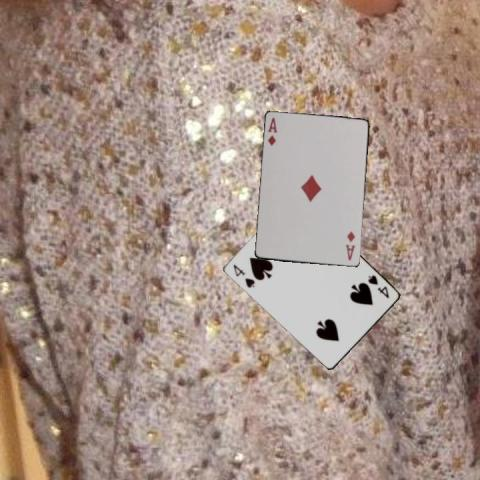4s: (365, 272, 391, 300), (230, 262, 256, 290)
Ad: (343, 228, 357, 262), (265, 115, 279, 147)
